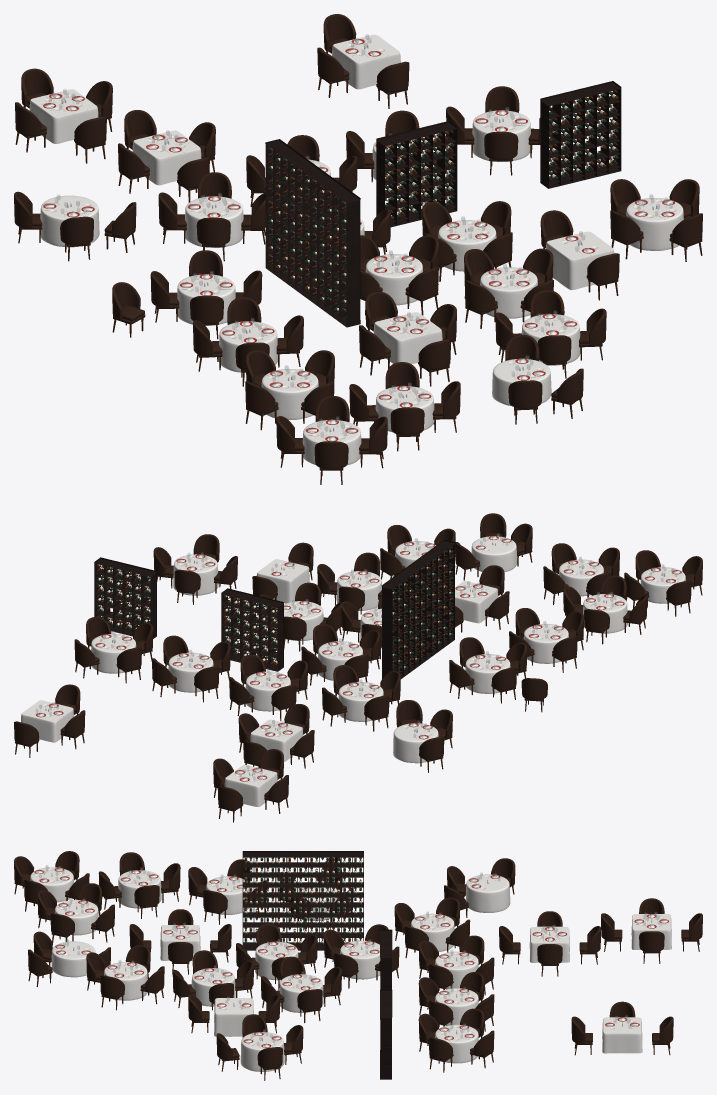
The picture shows the model from 3 angles, top to bottom: view 1: azimuth 30°, elevation 25°; view 2: azimuth 150°, elevation 25°; view 3: azimuth 270°, elevation 25°; orthographic projection. The views are drawn at different scales.
Visible parts, largest first — view 1: n97150, n97154, n97152, n97151, n97155, n97144, n97153, n97120, n97099, n97105, n97102, n97123 (+74 smaller); view 2: n97150, n97152, n97154, n97151, n97153, n97155, n97120, n97144, n97099, n97132, n97126, n97102 (+73 smaller); view 3: n97150, n97151, n97126, n97120, n97144, n97132, n97154, n97147, n97123, n97111, n97135, n97099 (+75 smaller).
Boxes of the visible parts, box(x1,y1,x2,y2) form: n97150: box(265, 139, 360, 327); n97154: box(540, 81, 621, 188); n97152: box(376, 121, 457, 227); n97151: box(267, 147, 346, 319); n97155: box(549, 90, 618, 180); n97144: box(546, 231, 614, 290); n97153: box(385, 130, 454, 219); n97120: box(332, 34, 400, 89); n97099: box(29, 89, 98, 143); n97105: box(132, 130, 201, 185); n97102: box(373, 312, 442, 364); n97123: box(626, 198, 683, 250); n97150: box(381, 539, 455, 678); n97152: box(221, 588, 283, 671); n97154: box(94, 557, 156, 638); n97151: box(392, 546, 453, 672); n97153: box(223, 595, 277, 665); n97155: box(96, 564, 150, 631); n97120: box(21, 700, 73, 742); n97144: box(256, 559, 309, 603); n97099: box(224, 764, 277, 806); n97132: box(471, 536, 517, 572); n97126: box(393, 723, 438, 763); n97102: box(455, 581, 498, 623); n97150: box(242, 851, 363, 950); n97151: box(244, 857, 361, 945); n97126: box(465, 874, 510, 912); n97120: box(602, 1017, 642, 1053); n97144: box(214, 998, 253, 1036); n97132: box(51, 941, 95, 977); n97154: box(380, 989, 392, 1079); n97147: box(435, 1024, 478, 1063); n97123: box(240, 1032, 284, 1071); n97111: box(104, 962, 147, 1000); n97135: box(340, 940, 380, 979); n97099: box(631, 914, 671, 949).
Size of the model in its own units: 13.89 by 3.21 by 19.96.
Materials: 14 (5 with a texture image).
